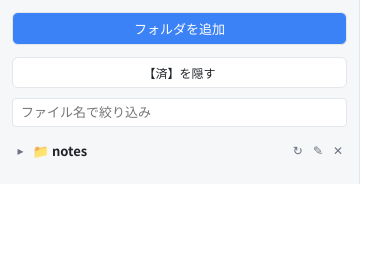
Sidebar › 全選択チェックボックスと操作バーはフォルダが折りたたまれている間は表示しない
This screenshot has width=377, height=265.
Note: 展開してチェックボックスで選択したあと折りたたむと、選択自体は残るがUIは隠れる
Click the button named "notes を展開する" at (20, 150), box [12,142,29,160]
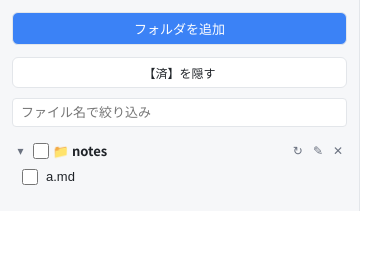
Click the checkbox named "a.md を選択" at (30, 176), box [22,168,38,184]
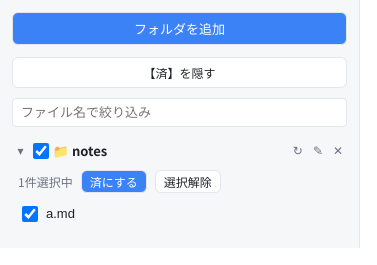
Click the button named "notes を折りたたむ" at (20, 150), box [12,142,29,160]
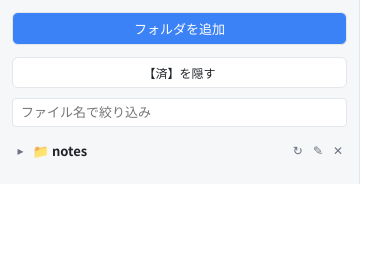
Now the text "1件選択中" is gone
